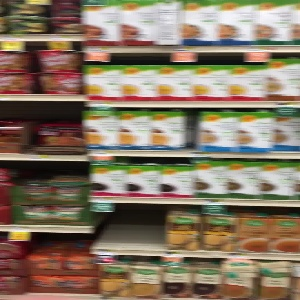void: (91, 200, 161, 255)
